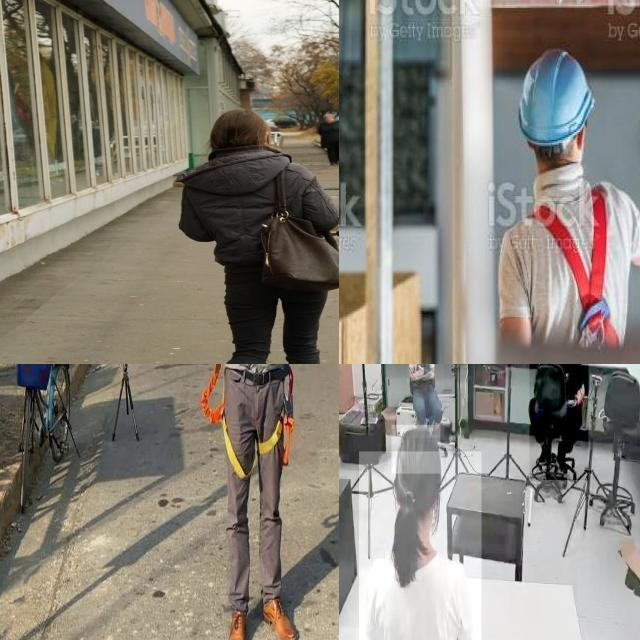Harness: (533, 186, 620, 348), (210, 364, 290, 456)
head_nohelmet: (391, 424, 441, 474)
person: (359, 451, 482, 640), (529, 364, 588, 481), (406, 364, 444, 438)
